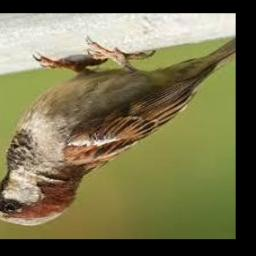Sparrow: (0, 37, 236, 227)
